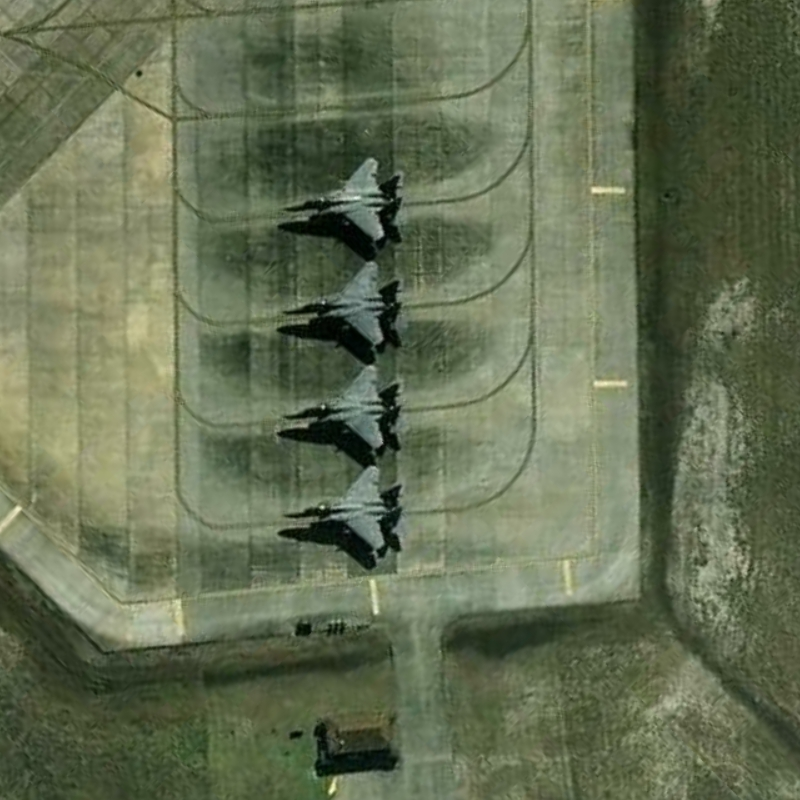A13: (272, 151, 411, 250), (276, 257, 412, 356), (273, 360, 413, 456), (277, 461, 410, 562)
